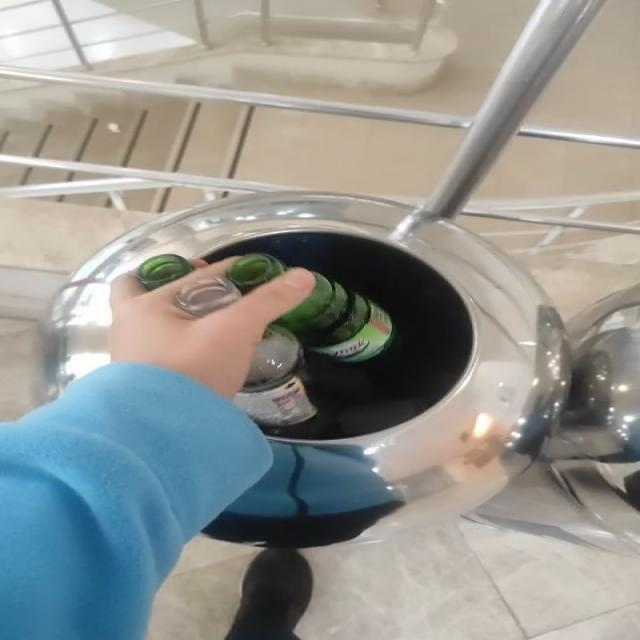glass: (235, 273, 393, 428), (175, 253, 285, 317), (136, 254, 192, 290)
